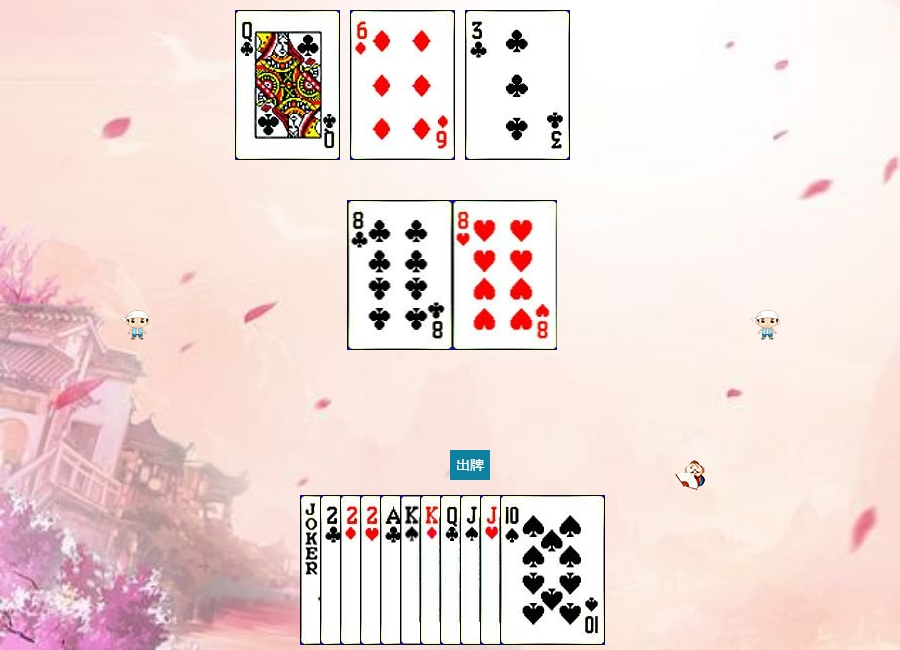10~4: (500, 495, 605, 645)
11~3: (480, 495, 585, 645)
11~4: (460, 495, 565, 645)
12~2: (235, 10, 340, 160), (440, 495, 545, 645)
13~1: (420, 495, 525, 645)
13~4: (400, 495, 505, 645)
14~2: (380, 495, 485, 645)
15~1: (340, 495, 445, 645)
15~2: (320, 495, 425, 645)
15~3: (360, 495, 465, 645)
17~3: (300, 495, 405, 645)
3~2: (465, 10, 570, 160)
6~1: (350, 10, 455, 160)
8~2: (348, 200, 453, 350)
8~3: (453, 200, 558, 350)
